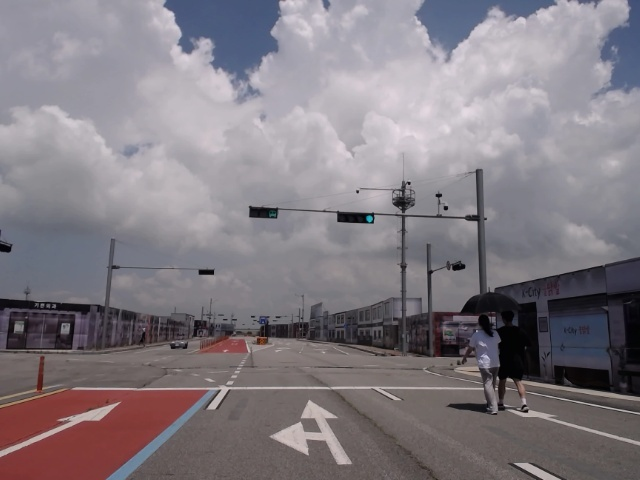straight_green_4: (337, 213, 374, 222)
